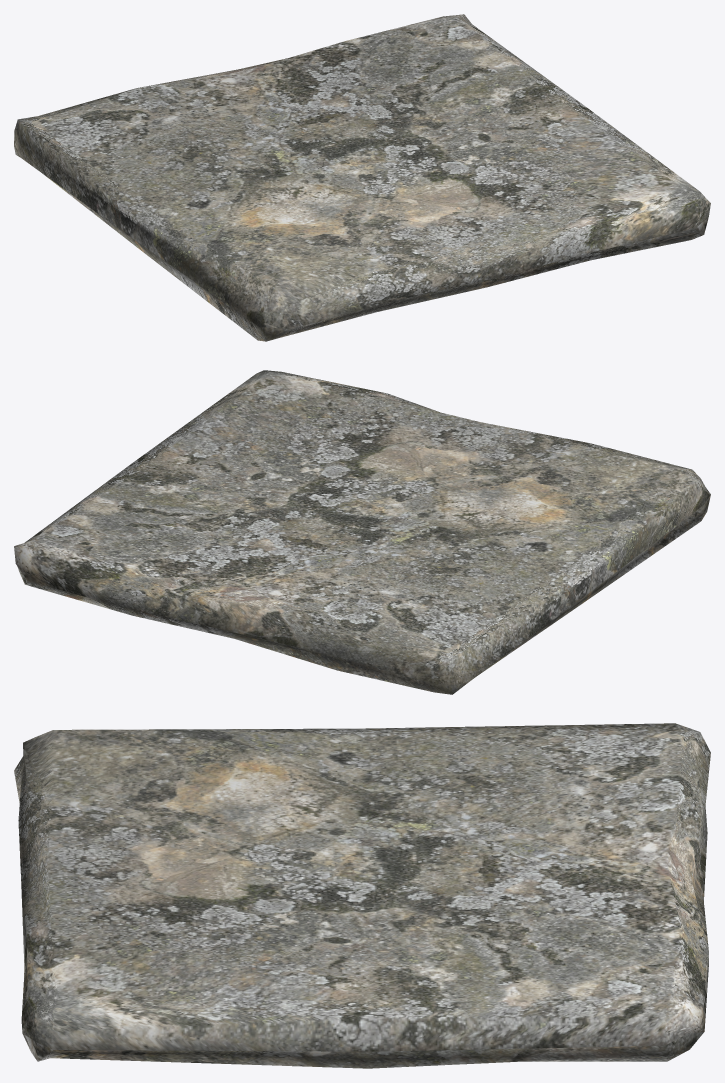
The model's file is Paving Stone 2.fbx.
3 renders of one model, top to bottom at view 1: azimuth 30°, elevation 25°; view 2: azimuth 150°, elevation 25°; view 3: azimuth 270°, elevation 25°, orthographic. The views are drawn at different scales.
Parts seen in each view (by area): view 1: Stone 2; view 2: Stone 2; view 3: Stone 2.
Part boxes in pixels (bbox=[...]): Stone 2: bbox=[14, 14, 710, 341]; Stone 2: bbox=[14, 370, 710, 694]; Stone 2: bbox=[14, 723, 710, 1068].
Size of the model in its own units: 40.71 by 4.41 by 40.3.
